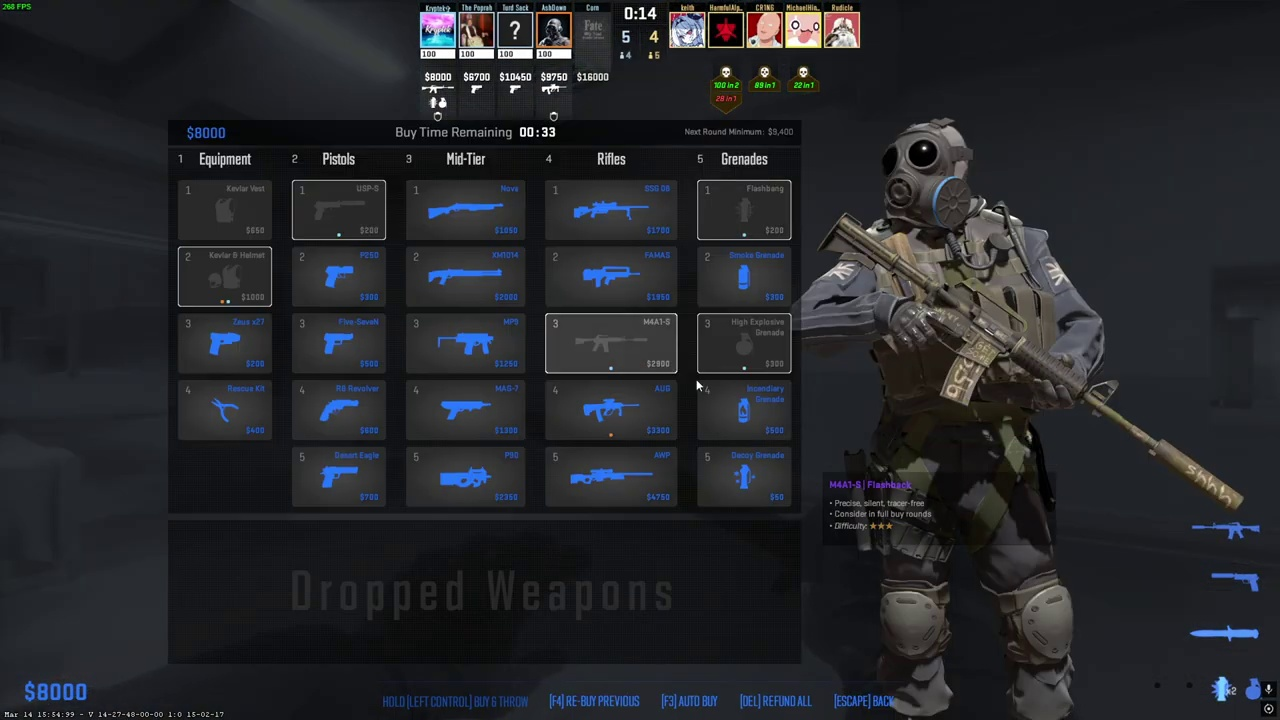CT: (853, 122, 1092, 720)
